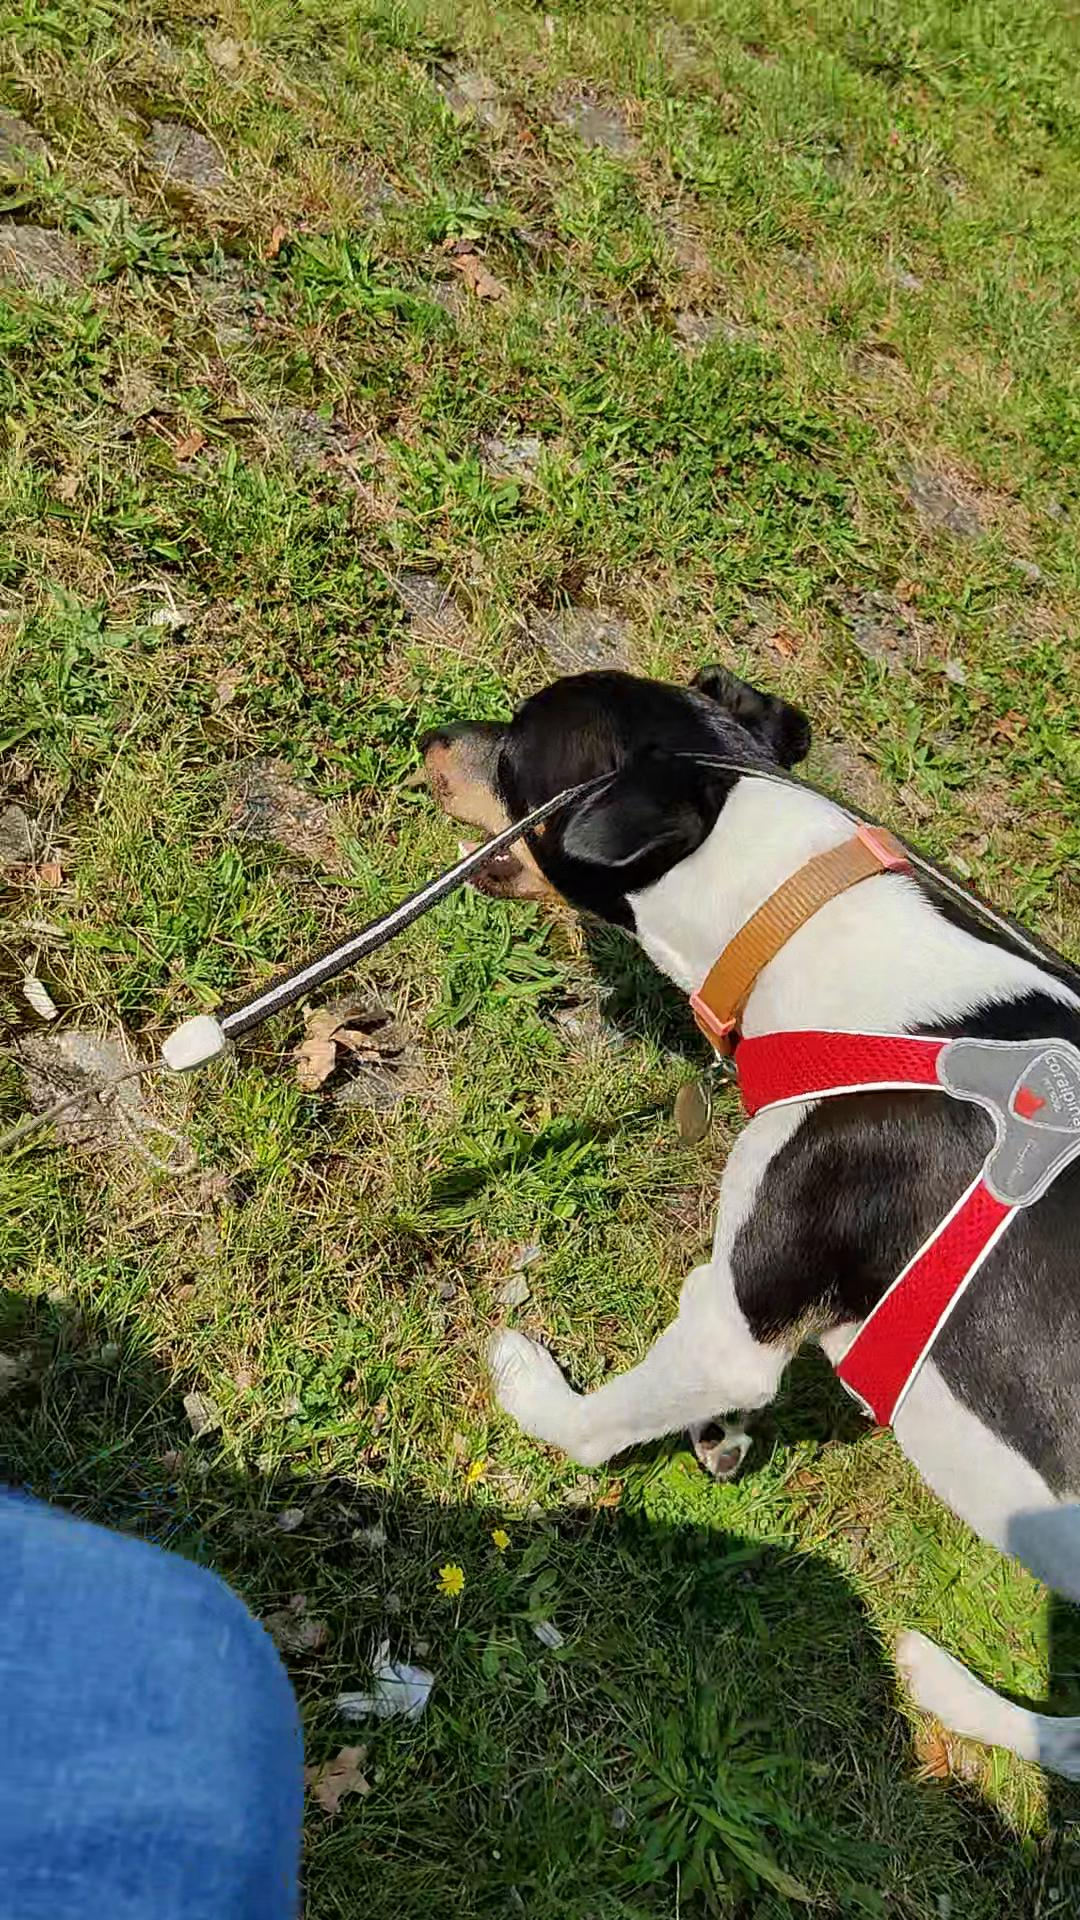Dog: (386, 574, 1079, 1805)
